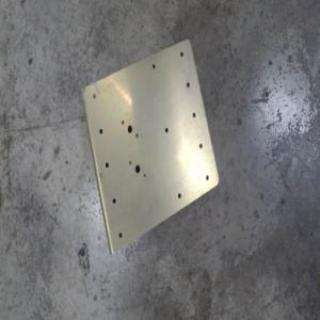MetalSheettrack_idkeyframe: (78, 36, 220, 258)
